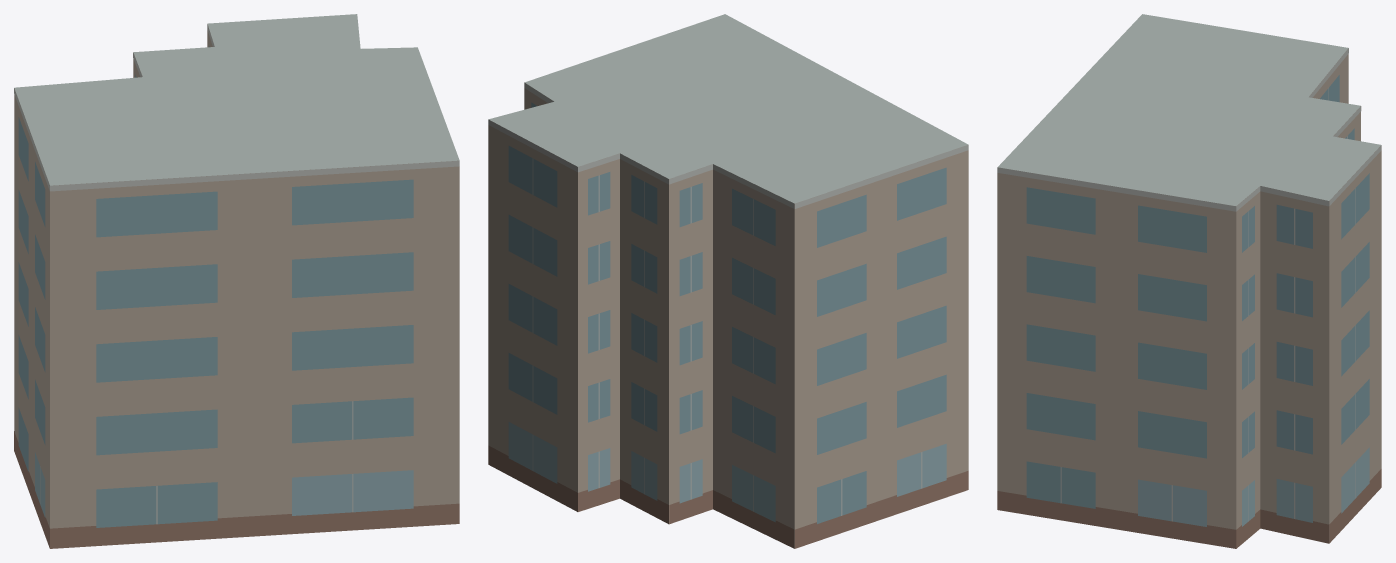
File: survey-upis-32740112.glb
The picture shows the model from 3 angles, left to right: view 1: azimuth 30°, elevation 25°; view 2: azimuth 150°, elevation 25°; view 3: azimuth 270°, elevation 25°; orthographic projection. The views are drawn at different scales.
Visible parts, largest first — view 1: survey-upis-32740112.tmp; view 2: survey-upis-32740112.tmp; view 3: survey-upis-32740112.tmp.
Boxes of the visible parts, <box> form: survey-upis-32740112.tmp: <box>14,14,459,548</box>; survey-upis-32740112.tmp: <box>488,14,968,548</box>; survey-upis-32740112.tmp: <box>997,14,1381,548</box>.
Bounding box in the file's own units: 18.36 × 15.25 × 15.5.
